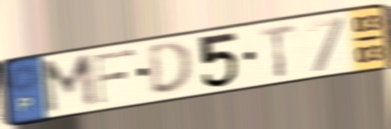5: (195, 29, 243, 90)
7: (307, 16, 346, 74)
D: (146, 39, 197, 97)
F: (93, 47, 137, 106)
M: (38, 51, 99, 117)
T: (258, 22, 299, 79)
